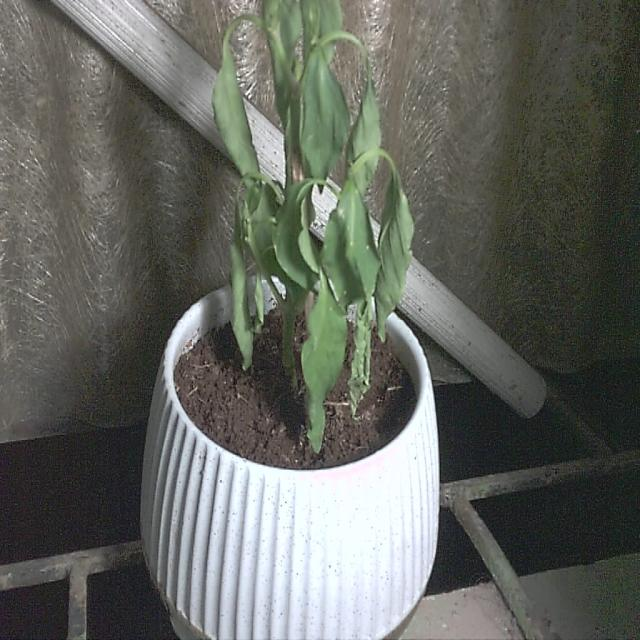Leaf: (211, 41, 262, 194), (320, 177, 376, 316), (300, 49, 352, 195), (301, 290, 346, 456), (373, 180, 413, 338), (273, 181, 327, 292), (226, 202, 254, 371)
